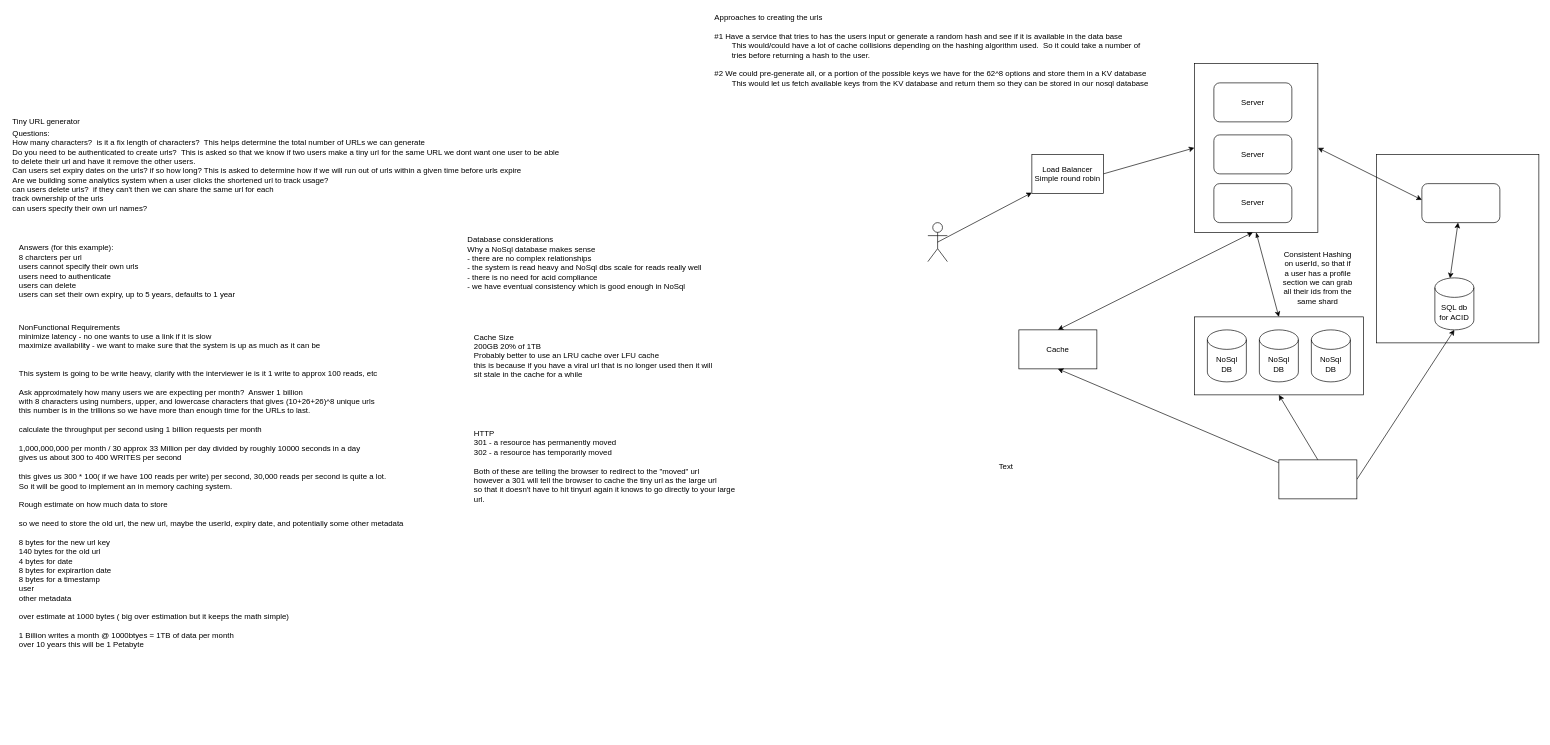
This 1550x745 diagram has some shape labels left out. The shapes that lost their labels are listed below. From the top down, each one's centre as x and y in pixels, then its label:
At [1460,203]: "URL Generator".
At [937,242]: "User".
At [1317,479]: "Periodic Cleanup service (10min)".
